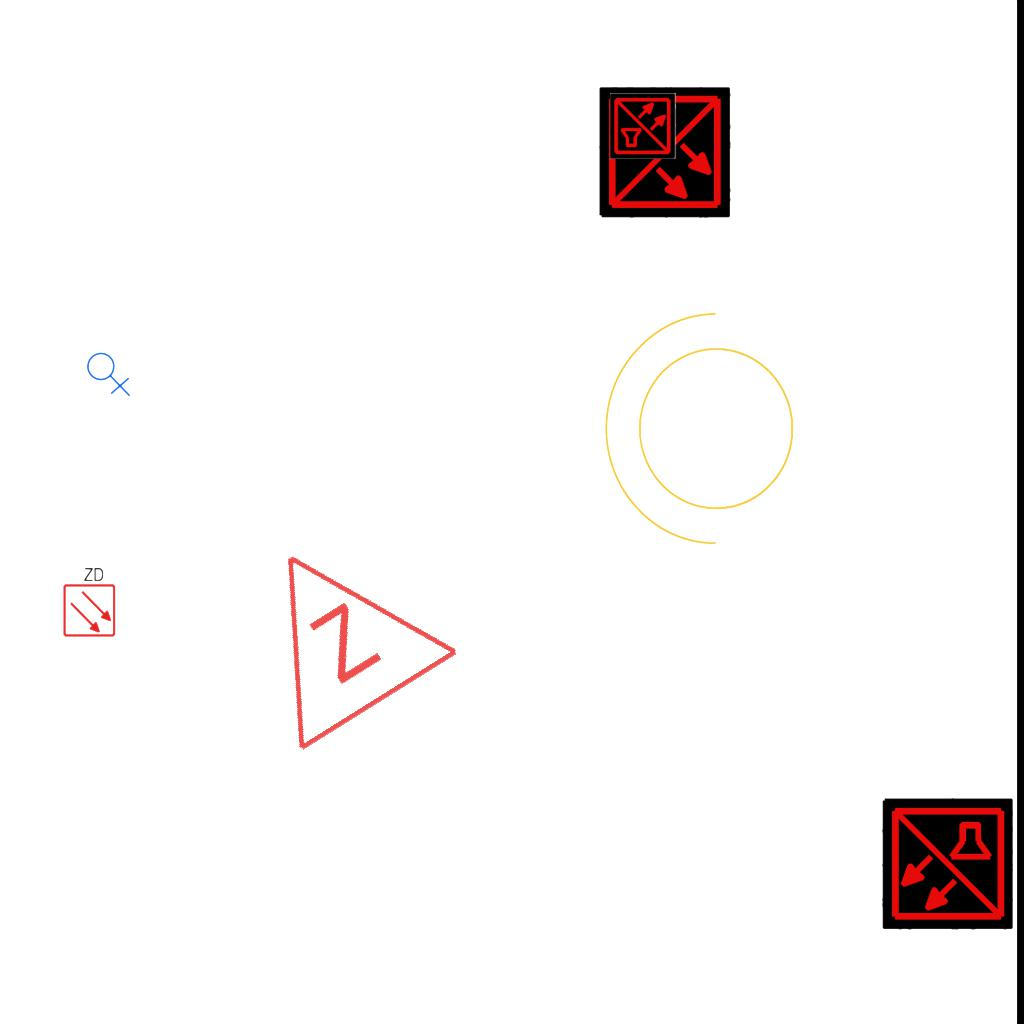Elektroanschluss_allgemein_230V_Geraeteanschlussdose_230V: (86, 348, 133, 397)
OKW_Multisensormelder_(Kombination_optischer_Rauch-Kahlenmonoxid_Waerme-Melder): (881, 798, 1013, 930), (599, 87, 731, 219), (610, 93, 676, 159)
Scheinwerfer_fuer_Alarmbeleuchtung: (594, 303, 819, 567)
ZD_Melder_in_Zwischendecke_mit_Revisionsoeffnung_mind_40_x_40_cm: (60, 564, 117, 638)
Zimmersignalleuchte: (196, 494, 470, 768)
